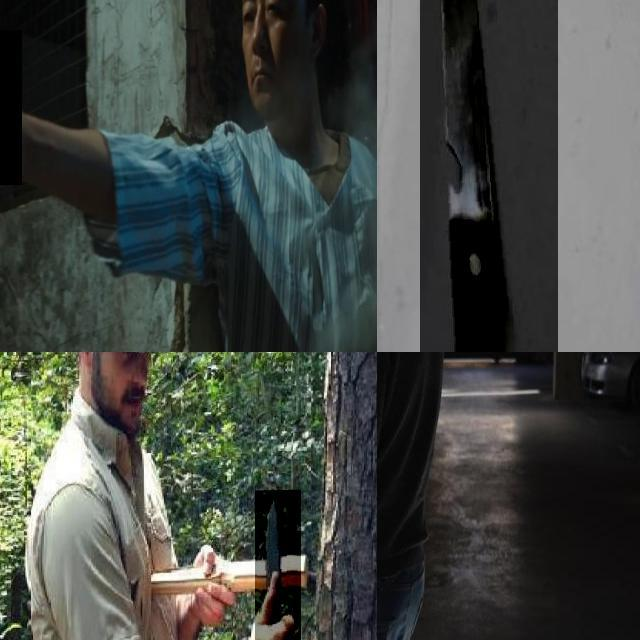-: (420, 0, 558, 352), (255, 491, 301, 640), (377, 495, 430, 550)
gun-knife-thesis - v11 Yolov5 augmented: (0, 30, 71, 187)
